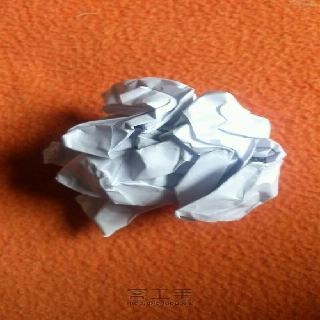8/可回收垃圾/纸: (43, 77, 287, 237)
